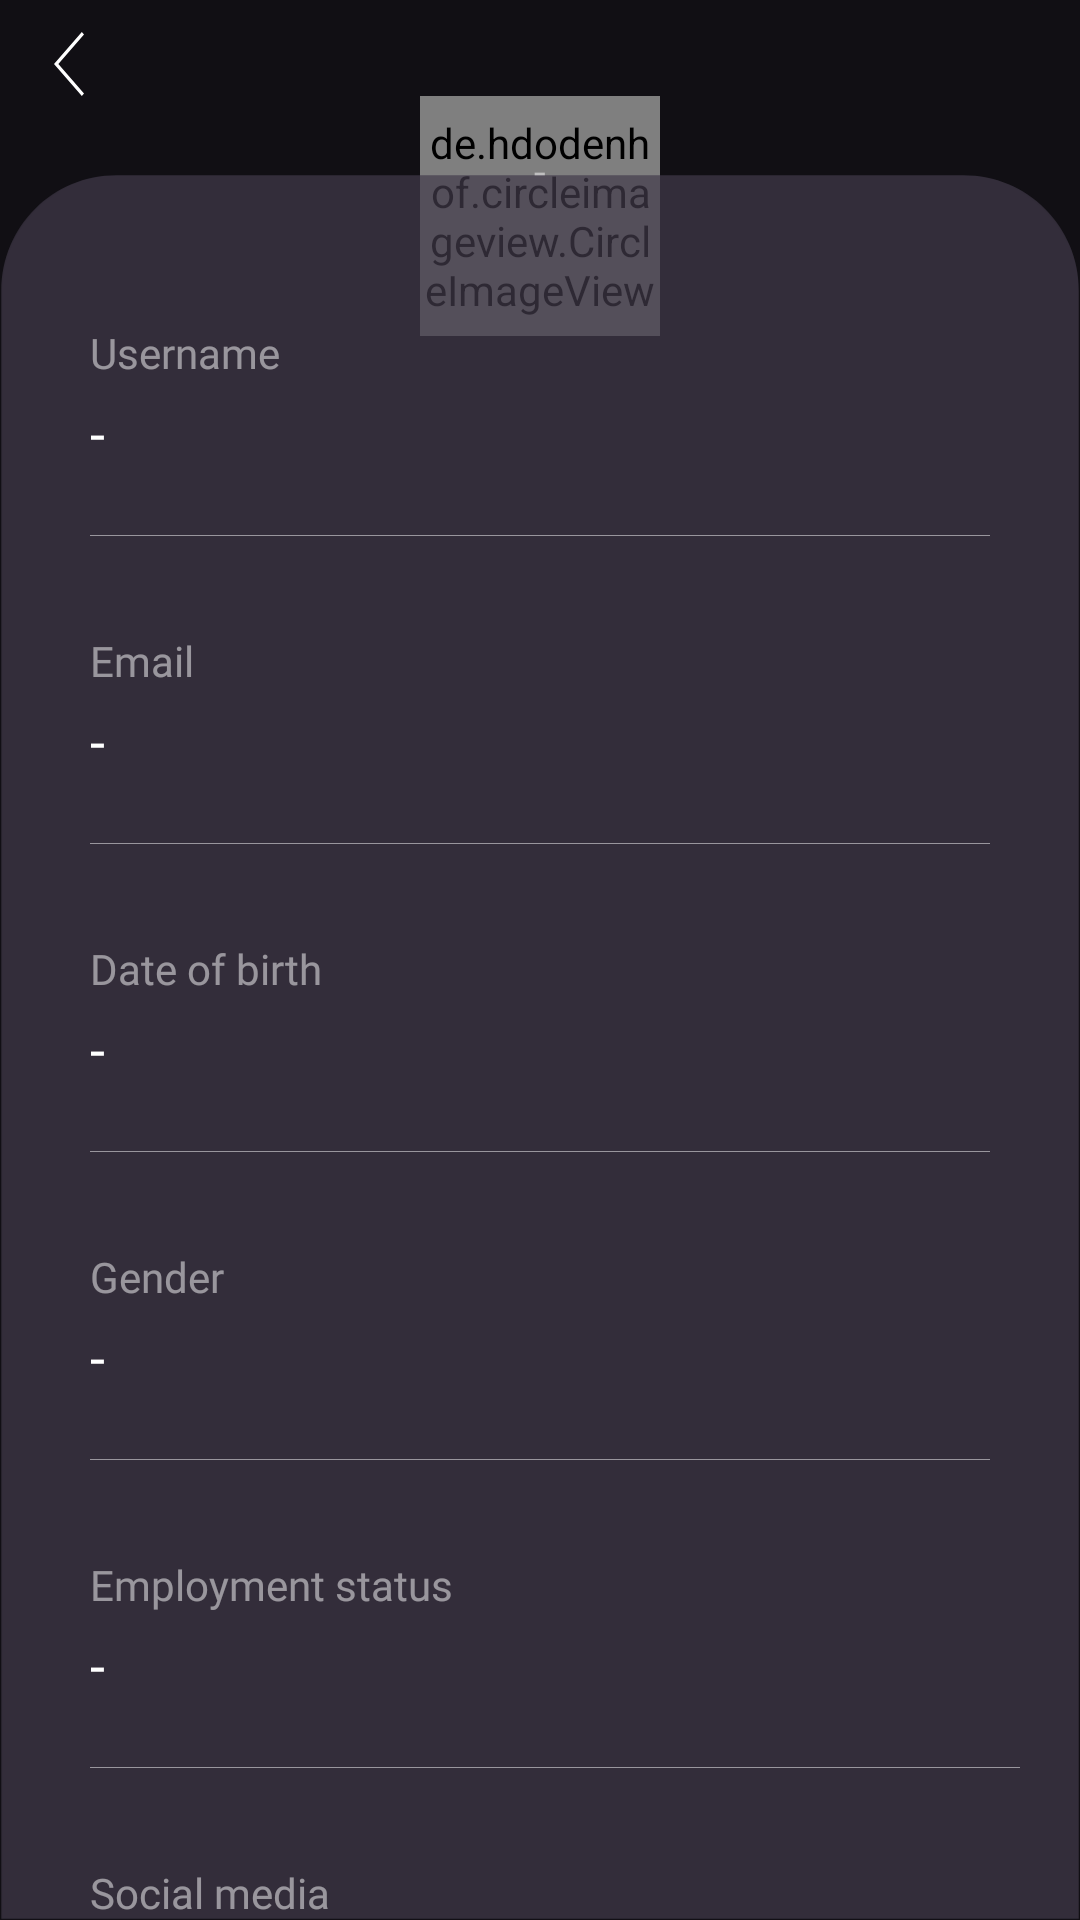

Where to tap for icons on this 1080 × 1920 app screen, as (x=x, y=y):
back: (x=69, y=64)
